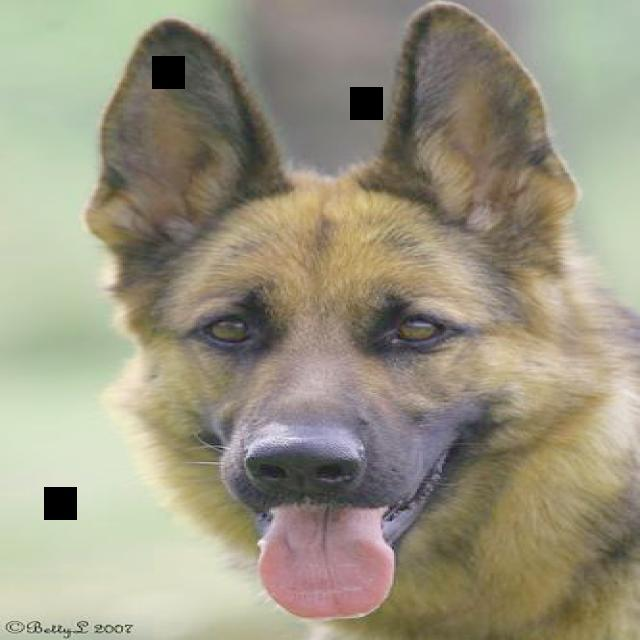adult_dog: (73, 1, 640, 632)
